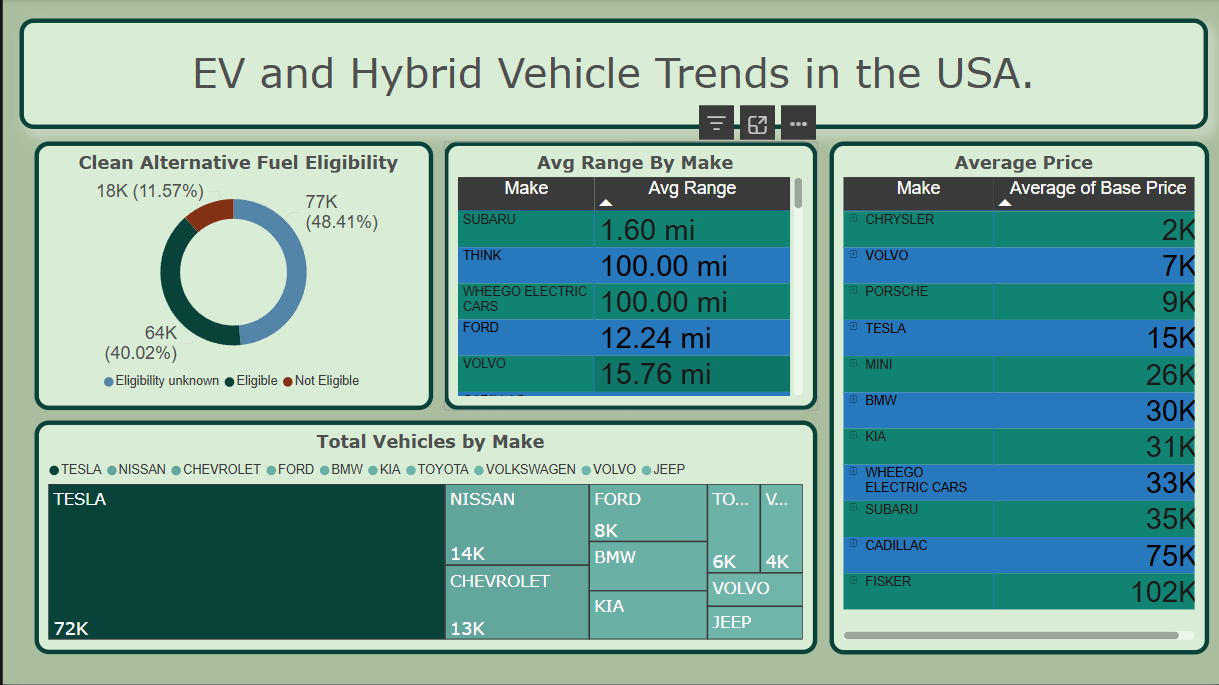

The page's visual inventory and layout, read from the dashboard file:
{"tool":"powerbi","page":{"name":" Page 2","canvas":[1280,720],"ordinal":1},"visuals":[{"type":"textbox","box":[18,20,1248,116],"z":0},{"type":"treemap","fields":{"Group":["Electric_Vehicle_Population_Data.Make"],"Values":["Electric_Vehicle_Population_Data.Total Vehicles"]},"box":[33.3,443.3,821.7,245],"z":1000},{"type":"pivotTable","title":"Average Price","fields":{"Values":["Avg(Electric_Vehicle_Population_Data.Base MSRP)"],"Rows":["Electric_Vehicle_Population_Data.Make Hierarchy.Make","Electric_Vehicle_Population_Data.Make Hierarchy.Model"]},"box":[868.3,150,398.3,538.3],"z":2000},{"type":"donutChart","title":"Clean Alternative Fuel Eligibility","fields":{"Y":["Electric_Vehicle_Population_Data.Total Vehicles"],"Category":["Electric_Vehicle_Population_Data.Clean Alternative Fuel Vehicle (CAFV) Eligibility"]},"box":[33.3,150,418.3,281.7],"z":6000},{"type":"pivotTable","title":"Avg Range By Make","fields":{"Rows":["Electric_Vehicle_Population_Data.Make"],"Values":["Electric_Vehicle_Population_Data.Avg Range"]},"box":[463.3,150,391.7,281.7],"z":7000}]}

Visuals, with their boxes in screenshot pixels (x1, y1, x2, y2), scaled from the page's 1280x720 canvas onto the 1219x685 screenshot:
textbox: 17/19/1206/129
treemap - Electric_Vehicle_Population_Data.Make x Electric_Vehicle_Population_Data.Total Vehicles: 32/422/814/655
"Average Price" pivotTable: 827/143/1206/655
"Clean Alternative Fuel Eligibility" donutChart: 32/143/430/411
"Avg Range By Make" pivotTable: 441/143/814/411
